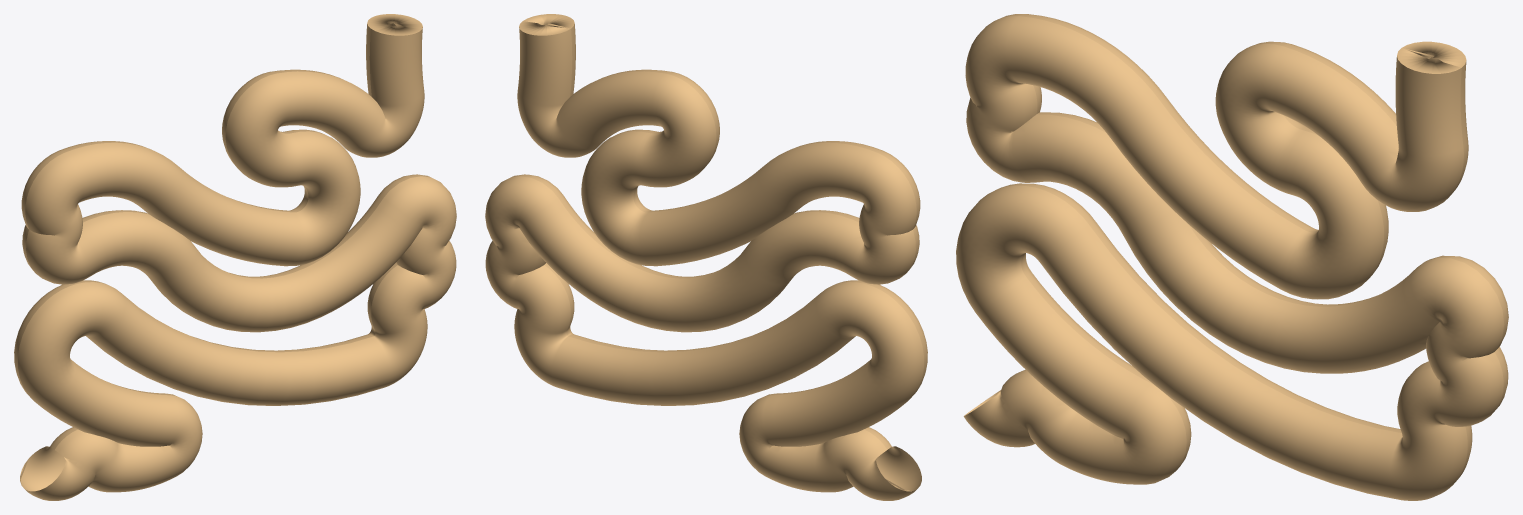
File: intestine.fbx
3 views of the same model, side by side, from view 1: azimuth 30°, elevation 25°; view 2: azimuth 150°, elevation 25°; view 3: azimuth 330°, elevation 25° (orthographic). The views are drawn at different scales.
Parts seen in each view (by area): view 1: group_9; view 2: group_9; view 3: group_9.
Part boxes in pixels (left/top/right/bottom): group_9: left=14, top=14, right=456, bottom=500; group_9: left=485, top=14, right=927, bottom=500; group_9: left=956, top=14, right=1508, bottom=500.
Size of the model in its own units: 122 by 107 by 13.53.
